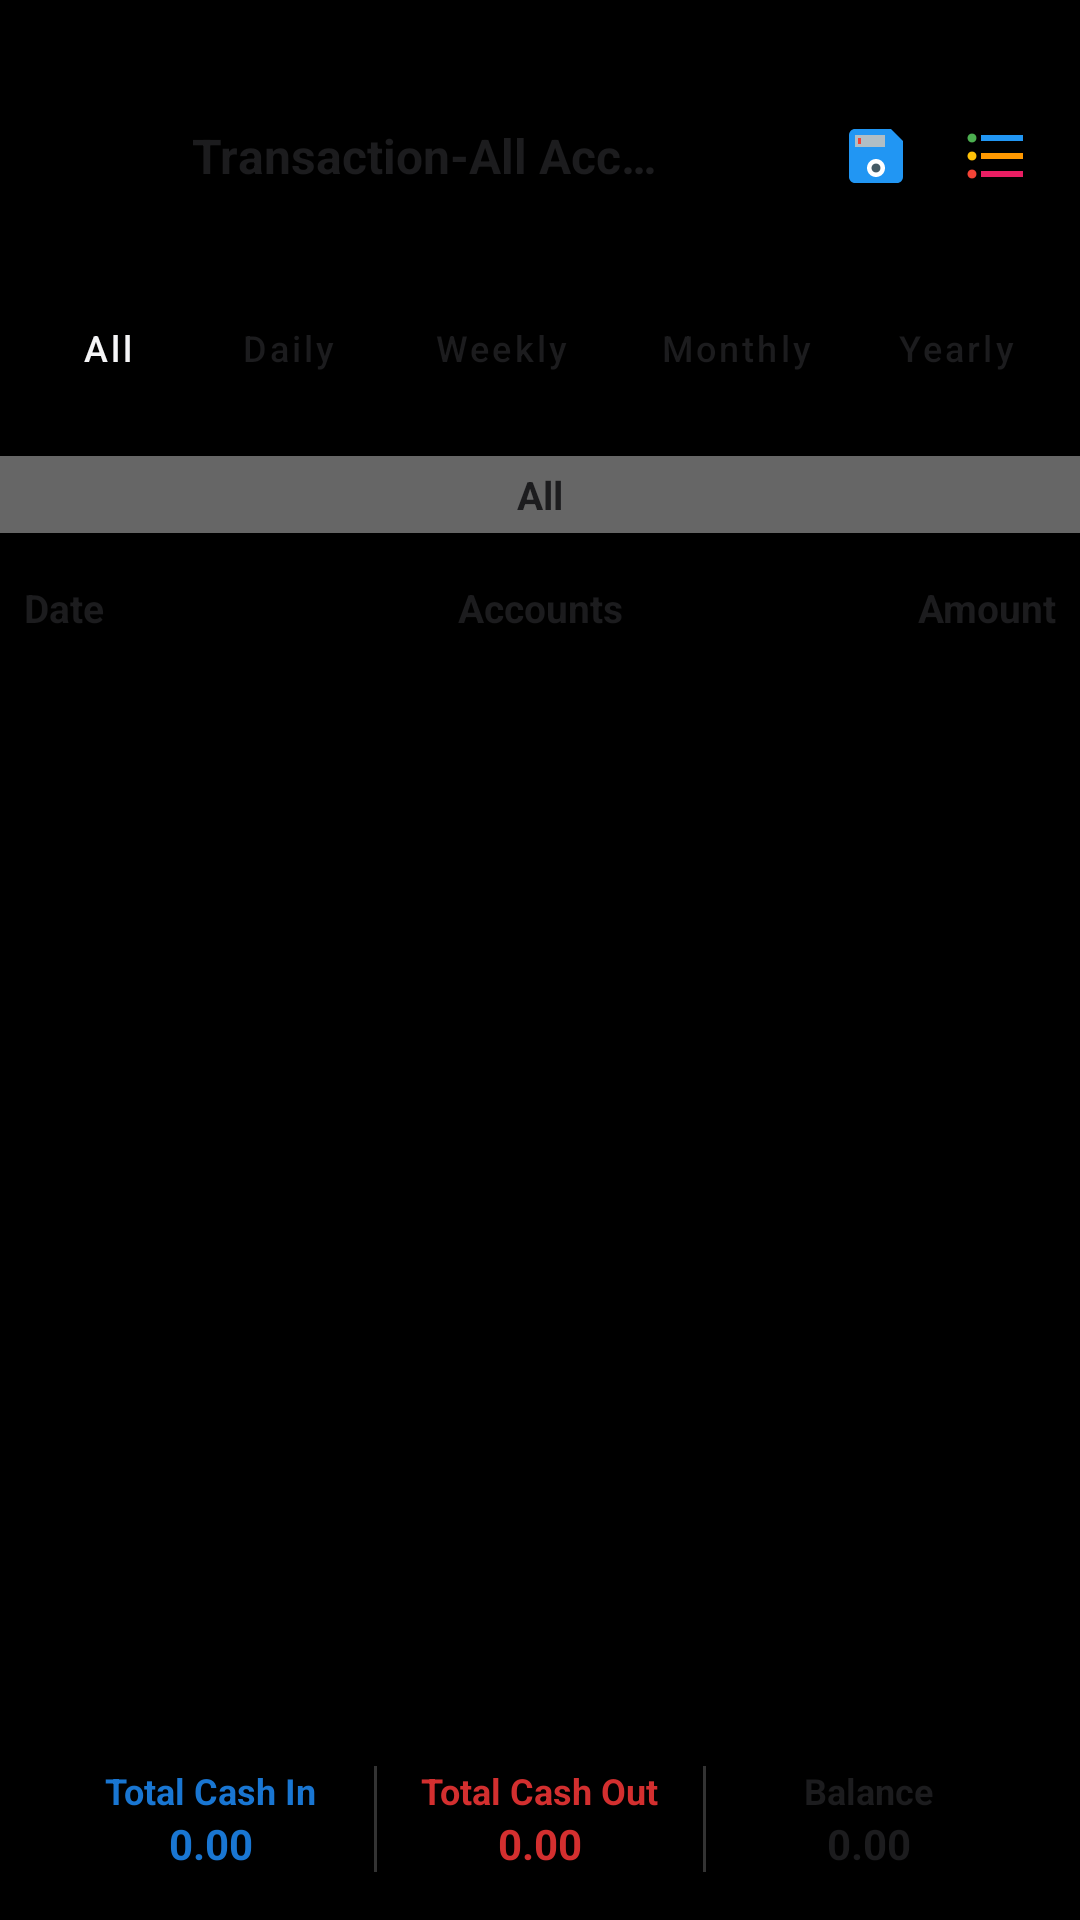

Where to tap for icons on this 1080px x 1920px app screen, as (x=x, y=y):
Save: (x=876, y=156)
